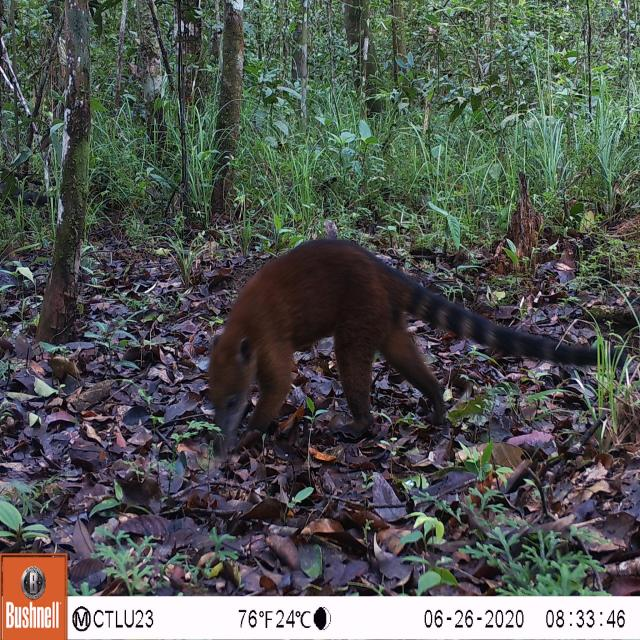South American Coati: (187, 230, 633, 462)
